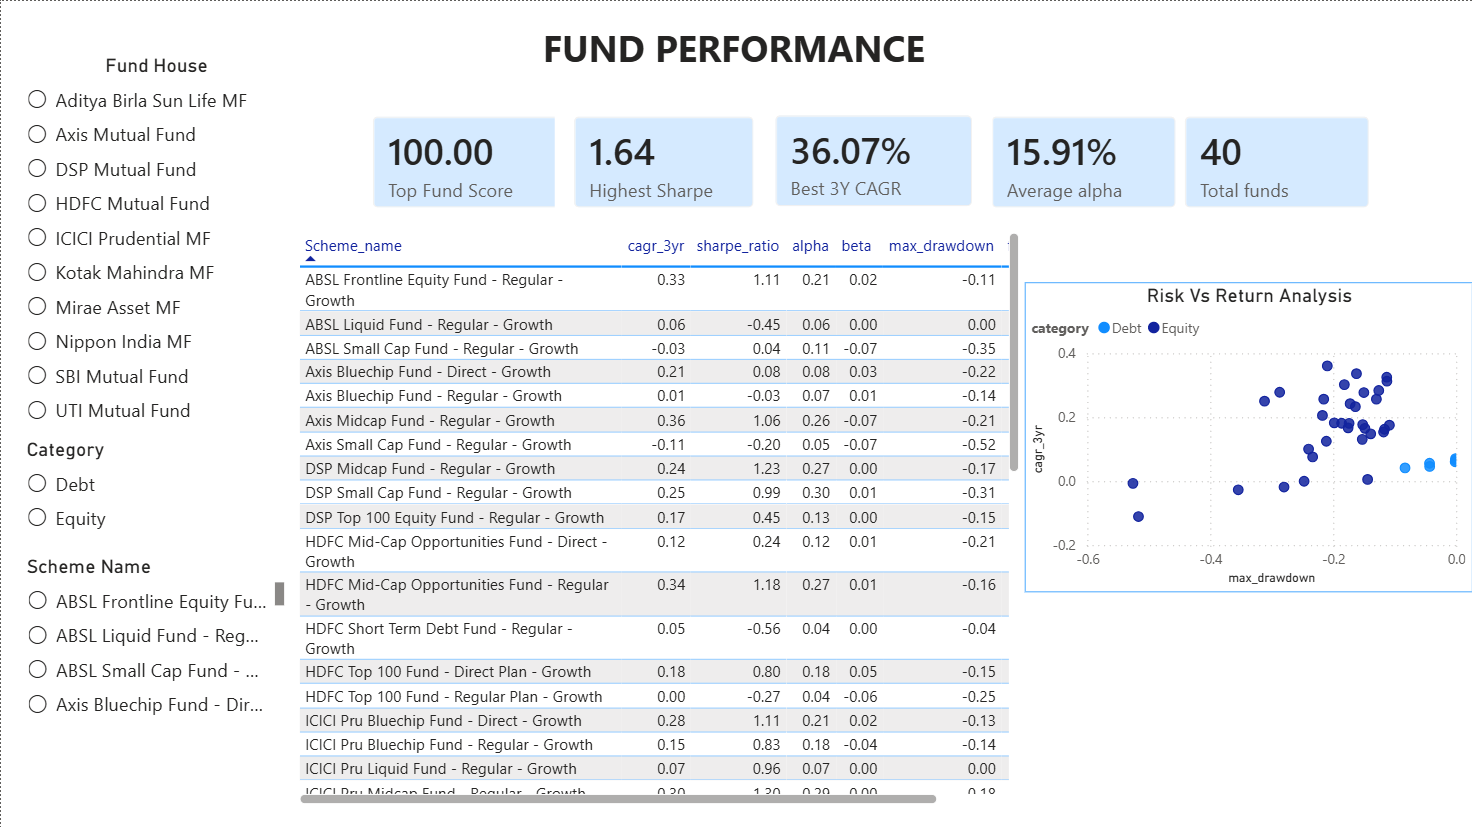

What the dashboard file says about the page in this screenshot:
{"tool":"powerbi","page":{"name":"Fund performance ","canvas":[1280,720],"ordinal":1},"visuals":[{"type":"cardVisual","fields":{"Data":["clean_aum.Highest Fund score"]},"box":[306,83.5,200,114],"z":0},{"type":"cardVisual","fields":{"Data":["clean_aum.Best Sharpe"]},"box":[481.4,83.7,190.7,114],"z":1000},{"type":"cardVisual","fields":{"Data":["clean_aum.AVG alpha","clean_aum.Number of funds"]},"box":[844.2,83.7,362.8,114],"z":2000},{"type":"cardVisual","fields":{"Data":["clean_aum.Best CAGR"]},"box":[657,82.6,205.8,114],"z":3000},{"type":"textbox","box":[329.1,14,607,62.8],"z":4000},{"type":"listSlicer","fields":{"Values":["clean_fund_master.fund_house"]},"box":[17.4,45.3,236,333.7],"z":5000},{"type":"listSlicer","fields":{"Values":["clean_fund_master.category"]},"box":[17.4,379.1,236,102.3],"z":6000},{"type":"listSlicer","fields":{"Values":["clean_fund_master.scheme_name"]},"box":[17.4,481.4,234.9,157],"z":7000},{"type":"tableEx","fields":{"Values":["clean_fund_master.scheme_name","Avg(fund_scorecard.cagr_3yr)","Avg(fund_scorecard.sharpe_ratio)","Avg(fund_scorecard.alpha)","Avg(fund_scorecard.beta)","Avg(fund_scorecard.max_drawdown)","Avg(fund_scorecard.fund_score)"]},"box":[253.5,196.5,637.2,507],"z":8000},{"type":"scatterChart","title":"Risk Vs Return Analysis","fields":{"Category":["clean_fund_master.scheme_name"],"X":["Avg(fund_scorecard.max_drawdown)"],"Y":["Avg(fund_scorecard.cagr_3yr)"],"Series":["clean_fund_master.category"]},"box":[890.7,244.2,389.5,269.8],"z":9000}]}

Visuals, with their boxes in screenshot pixels (x1, y1, x2, y2), scaled from the page's 1280x720 canvas onto the 1472x827 screenshot:
cardVisual - clean_aum.Highest Fund score: (x1=352, y1=96, x2=582, y2=227)
cardVisual - clean_aum.Best Sharpe: (x1=554, y1=96, x2=773, y2=227)
cardVisual - clean_aum.AVG alpha x clean_aum.Number of funds: (x1=971, y1=96, x2=1388, y2=227)
cardVisual - clean_aum.Best CAGR: (x1=756, y1=95, x2=992, y2=226)
textbox: (x1=378, y1=16, x2=1077, y2=88)
listSlicer - clean_fund_master.fund_house: (x1=20, y1=52, x2=291, y2=435)
listSlicer - clean_fund_master.category: (x1=20, y1=435, x2=291, y2=553)
listSlicer - clean_fund_master.scheme_name: (x1=20, y1=553, x2=290, y2=733)
tableEx - clean_fund_master.scheme_name x Avg(fund_scorecard.cagr_3yr): (x1=292, y1=226, x2=1024, y2=808)
"Risk Vs Return Analysis" scatterChart: (x1=1024, y1=280, x2=1471, y2=590)
